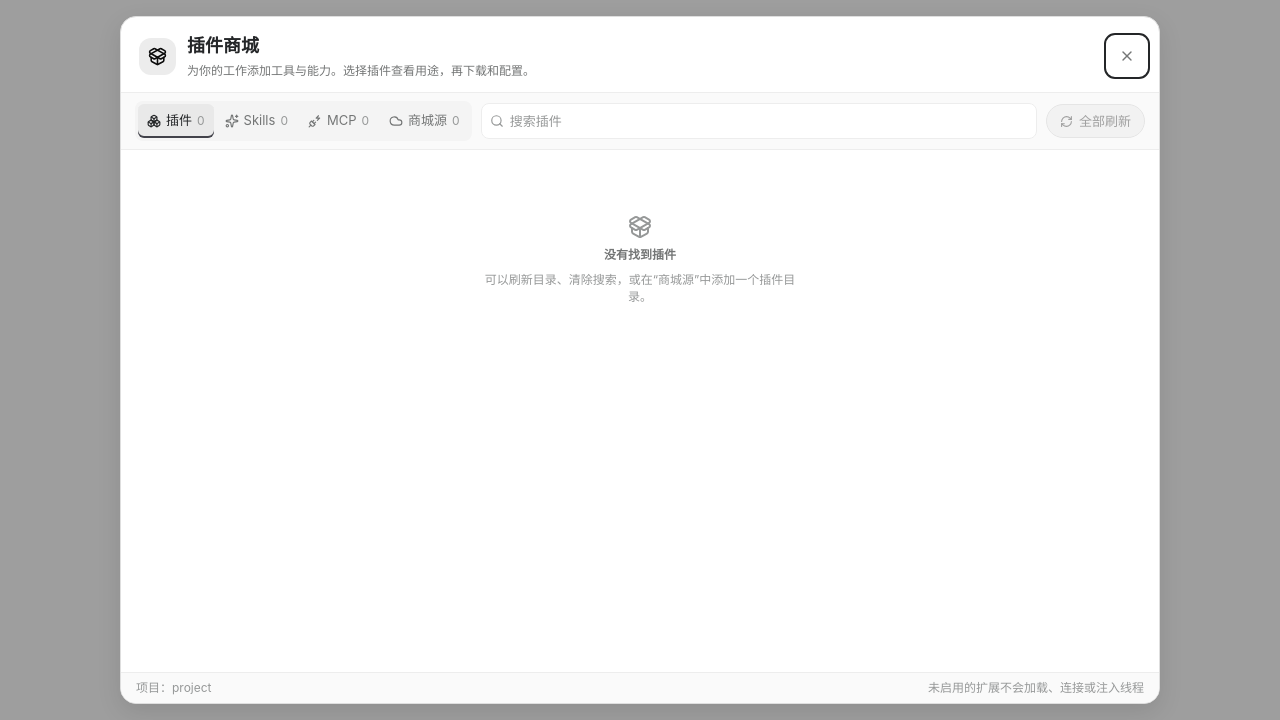
Test: PluginMarketplaceDialog › shows Skills and MCP details in panes aligned with the plugin page
Click the button "Skills 0": (256, 121) [216,104,297,138]
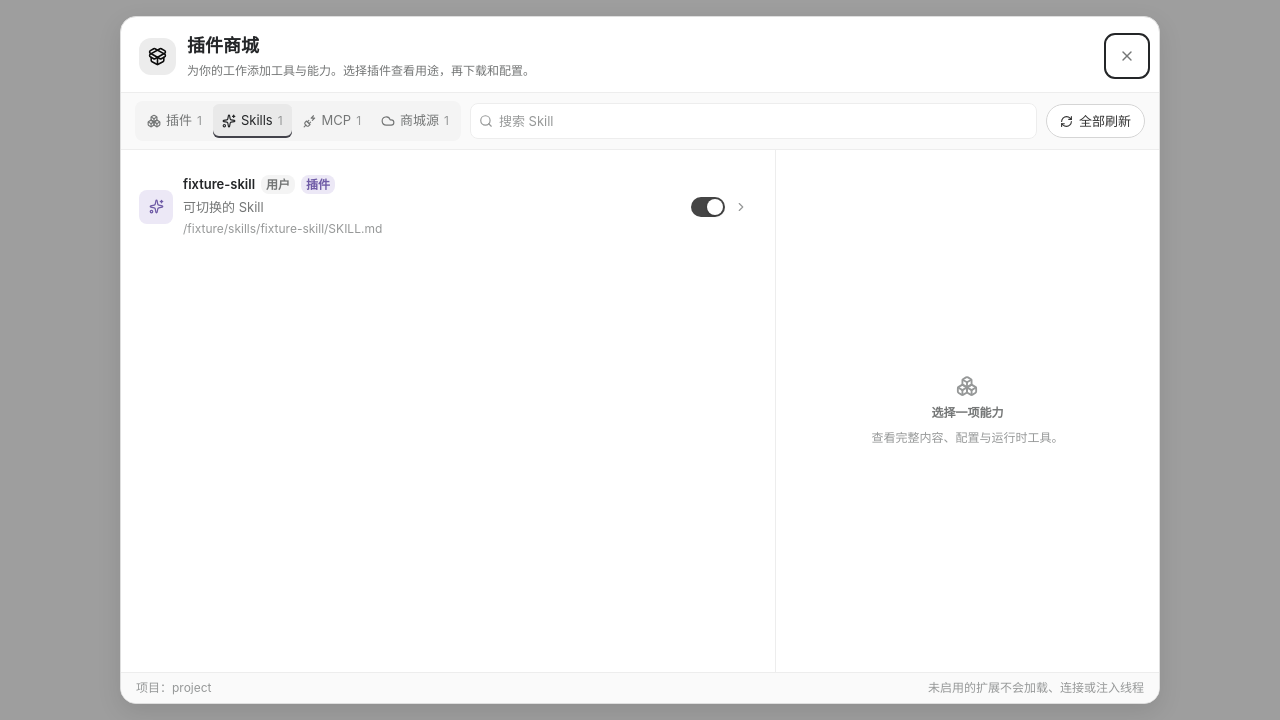
Click the button with aria-label "查看 fixture-skill 详情": (156, 206) [132,168,684,245]
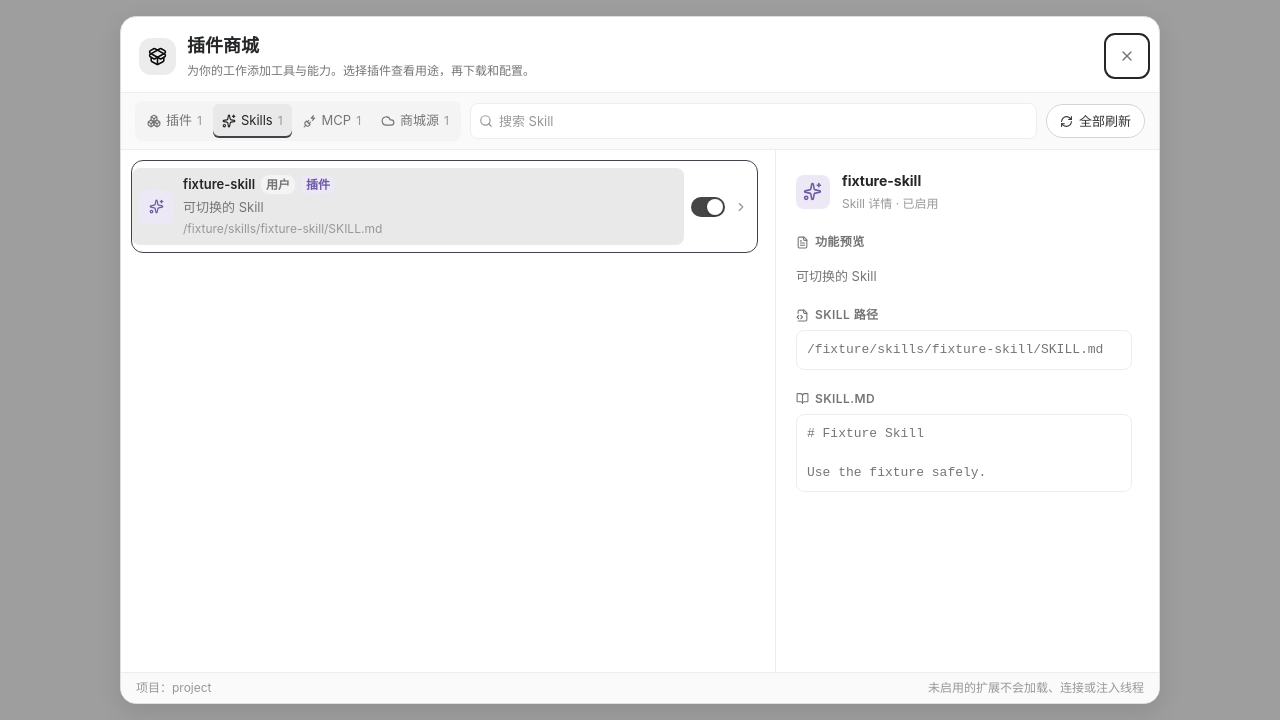
Expected: the element named "Skill 列表" is shown, [131,160,758,253]
Expected: the text "# Fixture Skill Use the fixture safely." is shown, [796,414,1132,492]
Click the button "MCP 1": (332, 121) [294,104,370,138]
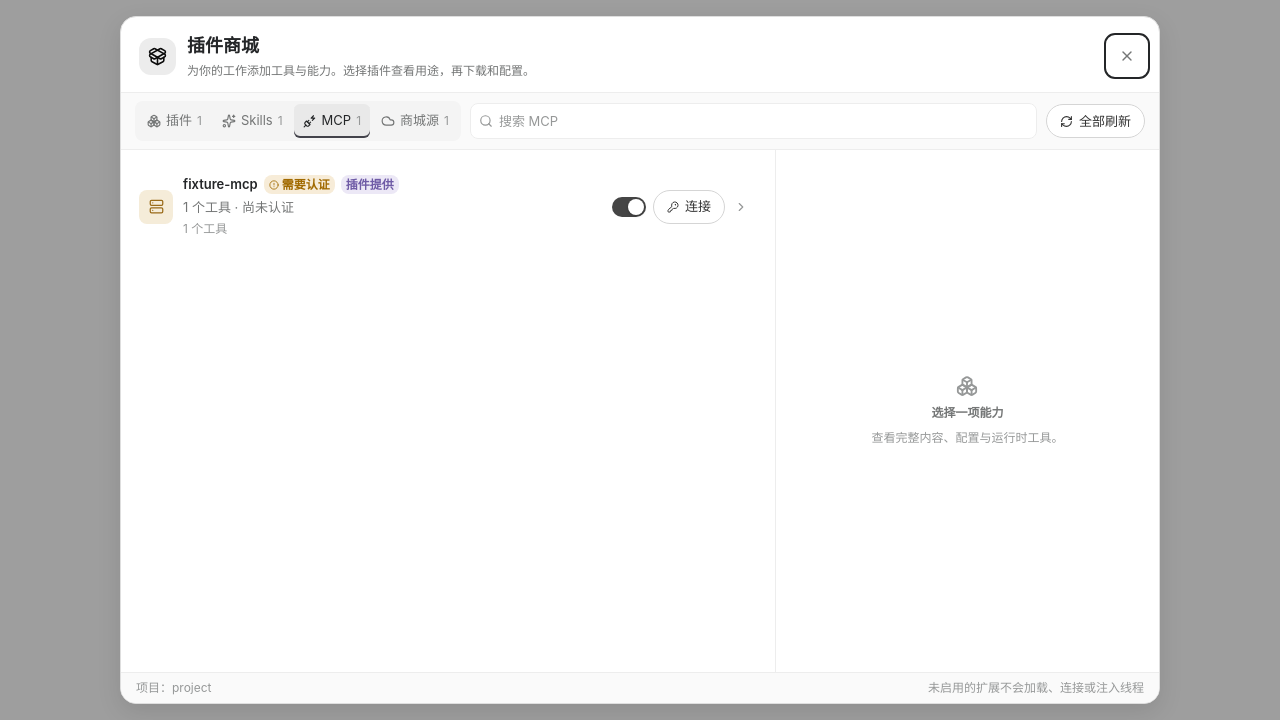
Click the button with aria-label "查看 fixture-mcp 详情": (156, 206) [132,168,605,245]
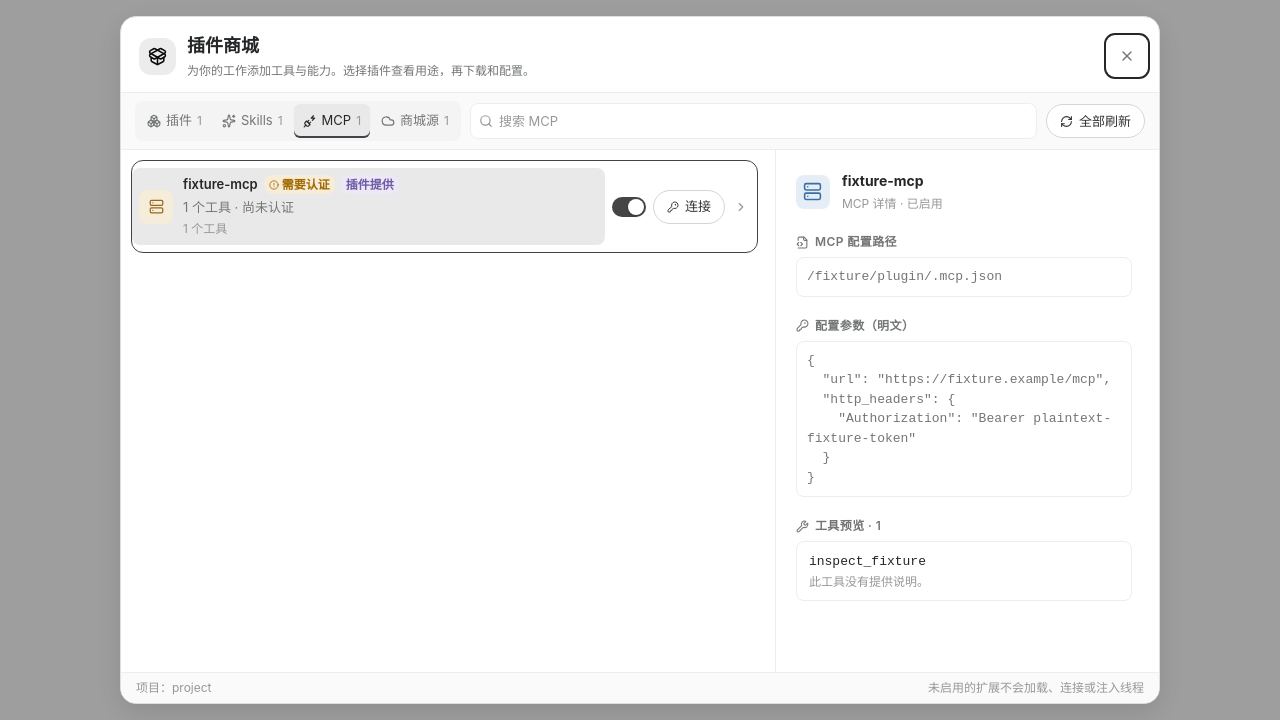
Expected: the element named "MCP 列表" is shown, [131,160,758,253]
Expected: the text "Bearer plaintext-fixture-token" is shown, [807,352,1111,484]
Expected: the text "inspect_fixture" is shown, [809,552,929,572]
